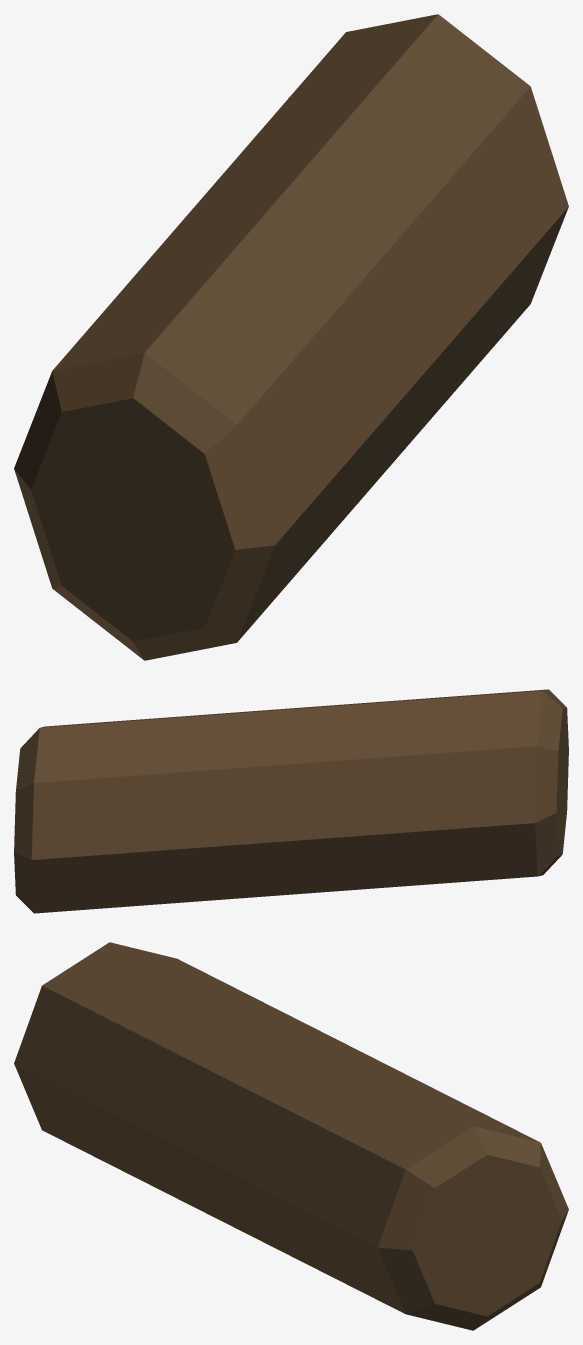
Rendered from Fireplace_Traditional_Log1.FBX.
3 views of the same model, one above another, from view 1: azimuth 30°, elevation 25°; view 2: azimuth 150°, elevation 25°; view 3: azimuth 270°, elevation 25° (orthographic). The views are drawn at different scales.
Parts seen in each view (by area): view 1: Fireplpace_Traditional_Log1; view 2: Fireplpace_Traditional_Log1; view 3: Fireplpace_Traditional_Log1.
Boxes of the visible parts, bbox=[...] form: Fireplpace_Traditional_Log1: bbox=[14, 14, 568, 660]; Fireplpace_Traditional_Log1: bbox=[14, 689, 568, 913]; Fireplpace_Traditional_Log1: bbox=[14, 942, 568, 1330].
Size of the model in its own units: 17.13 by 7.17 by 17.63.
1 material, 1 textured.
